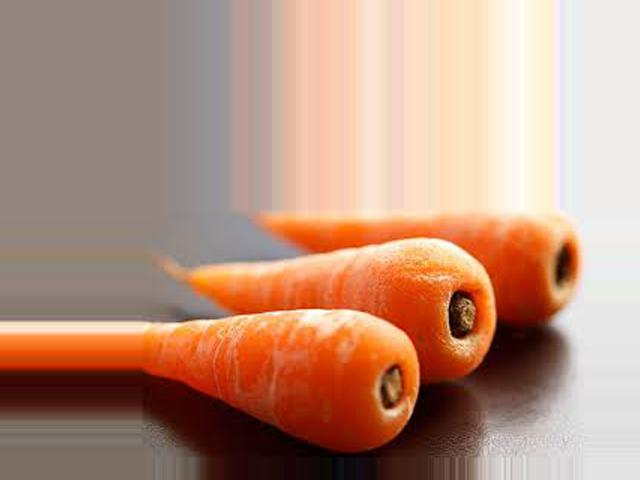carrot: (257, 210, 540, 333)
